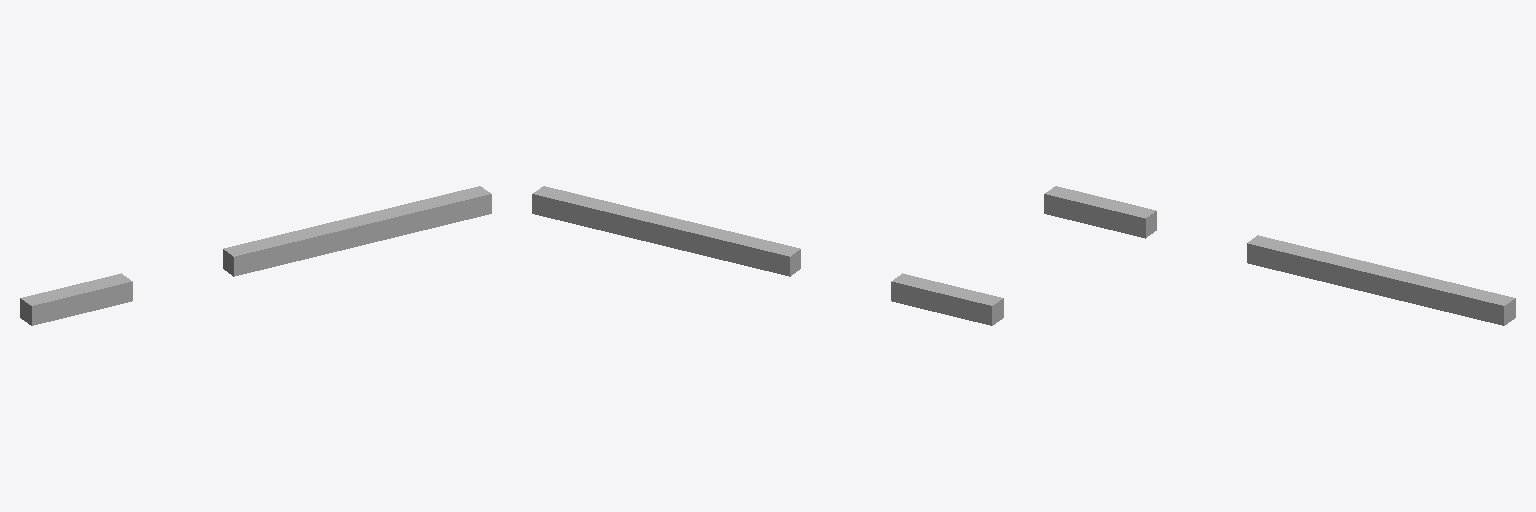
The robot description file, URDF, robot "manipulator":
<?xml version="1.0" ?>
<robot name="manipulator">
	<link name="world"/>
	
	<joint name="world_base_link" type="fixed">
		<parent link="world"/>
		<child link="base_link"/>
		<origin xyz="0 0 0" rpy="0 0 0" />
        <axis xyz="0 0 1" />
	</joint>
		
	<link name="base_link">
		<inertial>
			<origin xyz="0.0, 0.0, 0.0" rpy="0 0 0" />
			<mass value="0.86768" />
				<inertia ixx="0.004313" ixy="7.3571E-06" ixz="-4.1802E-06"
						 iyy="0.0063166" iyz="1.4712E-05" izz="0.0027301" />
		</inertial>
		<visual>
			<origin xyz="0 0 0" rpy="0 0 0" />
			<geometry>
				<box size="0.0 0.0 0.0"/>
			</geometry>
			<material name="">
				<color rgba="0.75294 0.75294 0.75294 1" />
			</material>
		</visual>
		<collision>
			<origin xyz="0 0 0" rpy="0 0 0" />
			<geometry>
				<box size="0.0 0.0 0.0"/>
			</geometry>
		</collision>
	</link>
	
	<joint name="AL_coxa_joint" type="revolute">
    	<origin rpy="0.0 0.0 0.0" xyz="0.0 0.0 0"/>
    	<parent link="base_link" />
    	<child link="AL_coxa_link" />
    	<axis xyz="0 0 1" />
    	<limit lower="-1.8326" upper="1.8326" effort="3.1" velocity="7" />
    </joint>
	
	<link name="AL_coxa_link">
		<inertial>
			<origin xyz="0.0028255 0.016487 -0.038239"
					rpy="0 0 0" />
			<mass value="0.054025" />
			<inertia ixx="4.2638E-05" ixy="-1.8883E-07" ixz="-4.2377E-06"
					 iyy="5.3271E-05" iyz="2.555E-06"
        	         izz="2.8624E-05" />
		</inertial>
		<visual>
			<origin rpy="0.0 0.0 0.0" xyz="-0.0265 0 0"/>
			<geometry>
				<box size="0.053 0.01 0.01"/>
			</geometry>
			<material name="">
				<color rgba="0.75294 0.75294 0.75294 1" />
			</material>
		</visual>
		<collision>
			<origin rpy="0.0 0.0 0.0" xyz="-0.0265 0 0"/>
			<geometry>
				<box size="0.053 0.01 0.01"/>
			</geometry>
    	</collision>
    </link>
    
    <joint name="AL_femur_joint" type="revolute">
		<origin rpy="-1.57079632679489661923 0.0 0.0" xyz="0.053 0 0"/>
		<parent link="AL_coxa_link" />
		<child link="AL_femur_link" />
		<axis xyz="0 0 1" />
		<limit lower="-1.9199" upper="1.9199" effort="10" velocity="5.5" />
	</joint>
    
	<link name="AL_femur_link">
		<inertial>
			<origin xyz="0.0545 4.1633E-17 -0.0002317" />
			<mass value="0.18426" />
			<inertia ixx="0.00033345" ixy="-6.5254E-08" ixz="-1.5302E-19"
				     iyy="4.8055E-05" iyz="-2.3378E-19"
				     izz="0.0003165" />
		</inertial>
		<visual>
			<origin rpy="0.0 0.0 0" xyz="0.041 0 0"/>
			<geometry>
				<box size="0.082 0.01 0.01"/>
			</geometry>
			<material name="">
				<color rgba="0.75294 0.75294 0.75294 1" />
			</material>
		</visual>
		<collision>
			<origin rpy="0.0 0.0 0" xyz="0.041 0 0"/>
			<geometry>
				<box size="0.082 0.01 0.01"/>
			</geometry>
		</collision>
	</link>	
	
	<link name="AL_tibia_link">
		<inertial>
			<origin xyz="0.094612 -0.001867 7.7874E-06" />
			<mass value="0.18426" />
			<inertia ixx="0.00033345" ixy="-6.5254E-08" ixz="-1.5302E-19"
				     iyy="4.8055E-05" iyz="-2.3378E-19"
				     izz="0.0003165" />
		</inertial>
		<visual>
			<origin rpy="0.0 0.0 0" xyz="0.041 0 0"/>
			<geometry>
				<box size="0.082 0.01 0.01"/>
			</geometry>
			<material name="">
				<color rgba="0.75294 0.75294 0.75294 1" />
			</material>
		</visual>
		<collision>
			<origin rpy="0.0 0.0 0" xyz="0.041 0 0"/>
			<geometry>
				<box size="0.082 0.01 0.01"/>
			</geometry>
		</collision>
	</link>
	
	<joint name="AL_tibia_joint" type="revolute">
		<origin rpy="0.0 0.0 0.0" xyz="0.053 0 0"/>
		<parent link="AL_femur_link" />
		<child link="AL_tibia_link" />
		<axis xyz="0 0 1" />
		<limit lower="-1.9199" upper="1.9199" effort="10" velocity="5.5" />
	</joint>
	
	<!--<link name="AL_tibia_link">
		<inertial>
			<origin xyz="0.2025 0 0" rpy="0 0 0" />
			<mass value="0.08176" />
			<inertia ixx="0.00033345" ixy="6.5254E-08" ixz="1.5302E-19"
				     iyy="4.8055E-05" iyz="2.3378E-19"
				     izz="0.0003165" />
		</inertial>
		<visual>
			<origin rpy="0.0 0.0 0.0" xyz="0.2025 0 0"/>
			<geometry>
				<box size="0.405 0.01 0.01"/>
			</geometry>			
		</visual>
		<collision>
			<origin rpy="0.0 0.0 0.0" xyz="0.2025 0 0"/>
			<geometry>
				<box size="0.405 0.01 0.01"/>
			</geometry>
		</collision>
	</link>
	
	<joint name="AL_tibia_joint" type="revolute">
		<origin rpy="0.0 0.0 0.0" xyz="0.082 0 0"/>
		<parent link="AL_femur_link" />
		<child link="AL_tibia_link" />
		<axis xyz="0 0 1" />
		<limit lower="-1.9199" upper="1.9199" effort="10" velocity="5.5" />
	</joint>-->
  

</robot>

--- Render facts (derived) ---
3 views of the same robot in one strip: view 1: azimuth 30°, elevation 25°; view 2: azimuth 150°, elevation 25°; view 3: azimuth 330°, elevation 25° (orthographic).
Robot: manipulator — 5 links, 4 joints (3 revolute, 1 fixed); root link world; default pose: all joints at 0.
Visible links, largest first — view 1: AL_tibia_link, AL_femur_link, AL_coxa_link; view 2: AL_tibia_link, AL_femur_link, AL_coxa_link; view 3: AL_femur_link, AL_tibia_link, AL_coxa_link.
Boxes of the visible links, x1,y1,x2,y2 form: AL_tibia_link: (325,186,491,251); AL_femur_link: (223,211,389,276); AL_coxa_link: (20,273,132,325); AL_tibia_link: (532,186,698,251); AL_femur_link: (634,216,800,276); AL_coxa_link: (891,273,1003,325); AL_femur_link: (1247,235,1413,299); AL_tibia_link: (1348,260,1515,325); AL_coxa_link: (1044,186,1156,238).
Bounding box of the posed robot: 0.241 × 0.01 × 0.01 m (x, y, z).
Geometry: primitives only (box / cylinder / sphere), no mesh files.